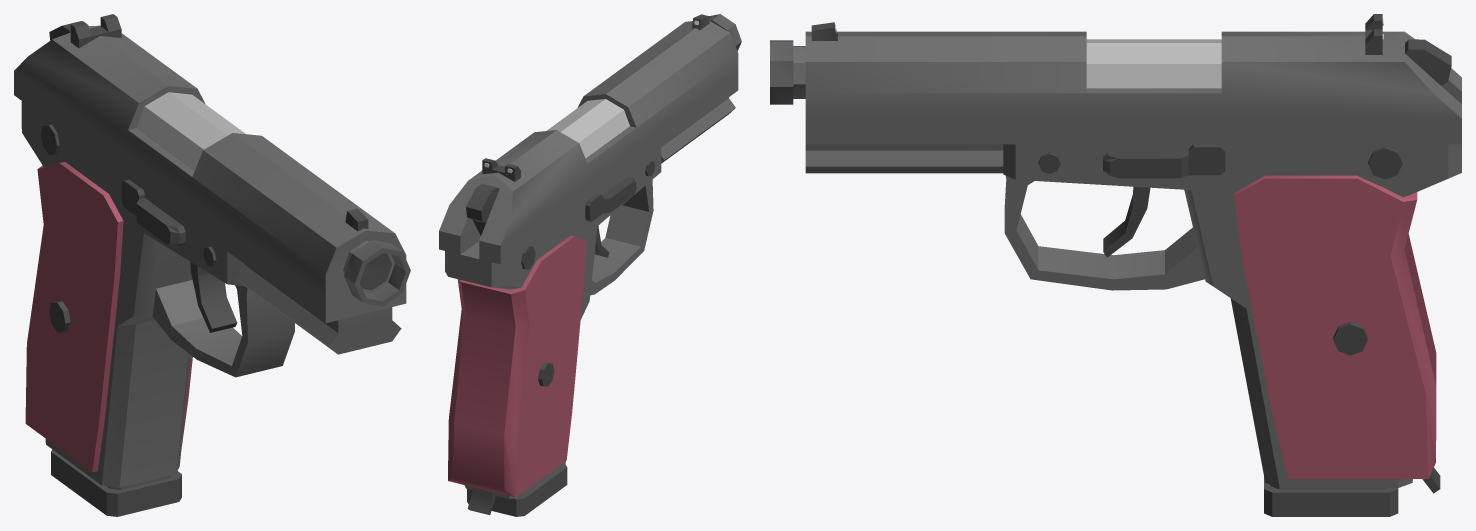
The model's file is pistol_compact_east.glb.
3 renders of one model, left to right at view 1: azimuth 30°, elevation 25°; view 2: azimuth 150°, elevation 25°; view 3: azimuth 270°, elevation 25°, orthographic. The views are drawn at different scales.
Parts seen in each view (by area): view 1: Pistol_Compact_East; view 2: Pistol_Compact_East; view 3: Pistol_Compact_East.
Boxes of the visible parts, bbox=[...] form: Pistol_Compact_East: bbox=[14, 14, 410, 516]; Pistol_Compact_East: bbox=[439, 14, 741, 516]; Pistol_Compact_East: bbox=[770, 14, 1461, 516].
Bounding box in the file's own units: 0.0298 × 0.1252 × 0.166.
